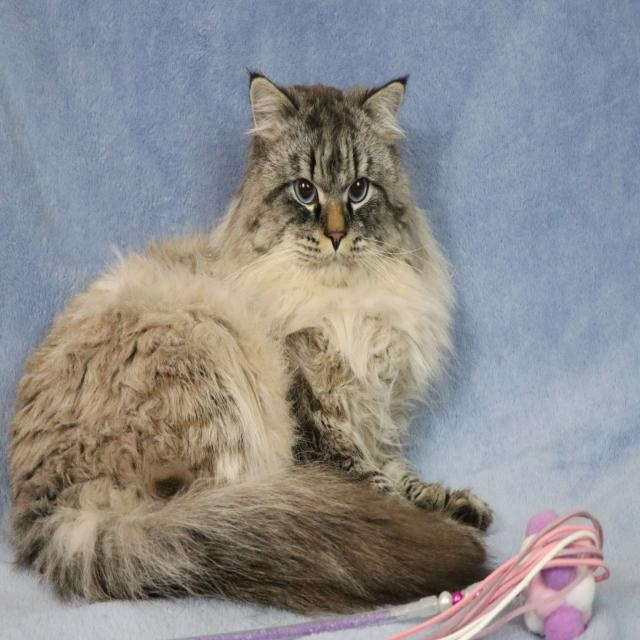Neva Masquerade: (6, 66, 496, 616)
